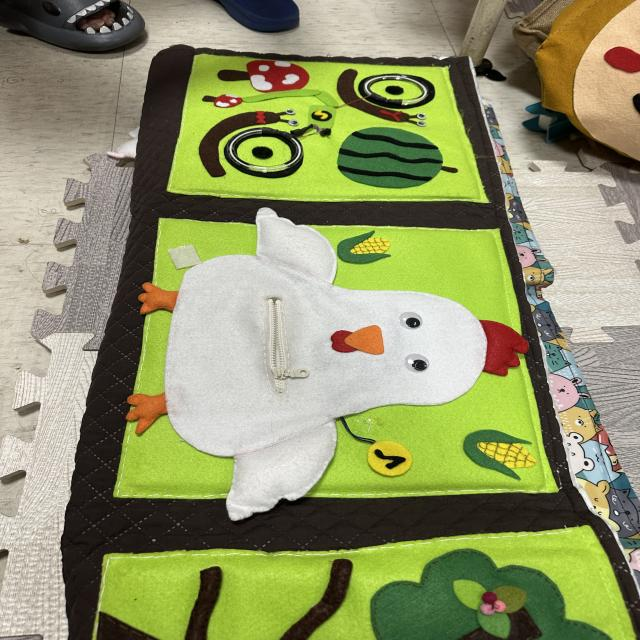zip_body: (260, 295, 292, 394)
zip_head: (268, 361, 307, 387)
